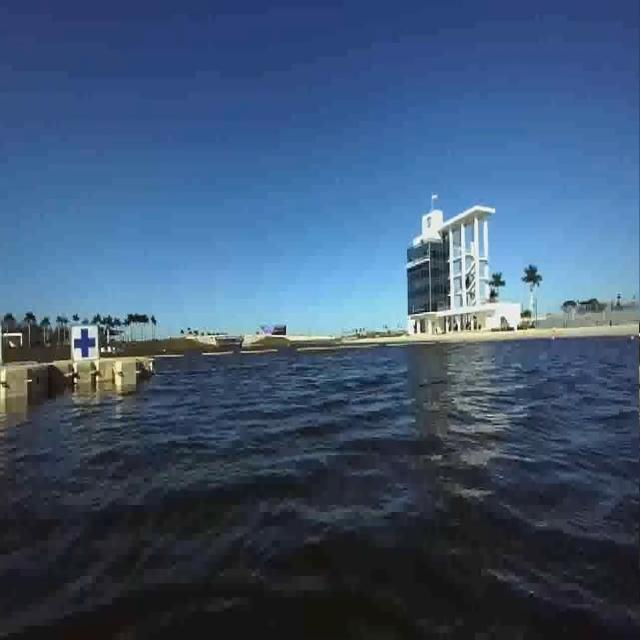blue-cross: (70, 318, 99, 367)
